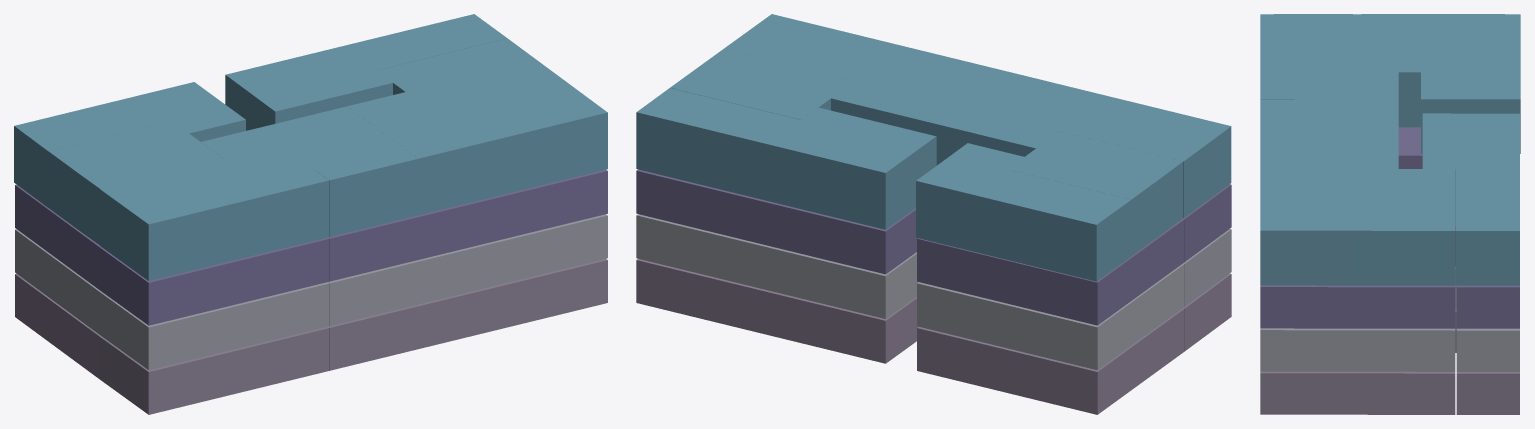
File: type-a-hitbox.glb
3 renders of one model, left to right at view 1: azimuth 30°, elevation 25°; view 2: azimuth 150°, elevation 25°; view 3: azimuth 270°, elevation 25°, orthographic. The views are drawn at different scales.
Visible parts, largest first — view 1: Line028, Line023, Line021, Line022, Line013, Line019, Line007, Line020, Line027, Line011, Line005, Line017 (+7 smaller); view 2: Line021, Line020, Line028, Line009, Line003, Line015, Line002, Line008, Line014, Line023, Line027, Line022 (+4 smaller); view 3: Line023, Line021, Line024, Line028, Line020, Line027, Line022, Line018, Line012, Line006, Line017, Line011 (+5 smaller).
Boxes of the visible parts, left/top/right/bottom form: Line028: left=100, top=128, right=328, bottom=280; Line023: left=347, top=77, right=607, bottom=215; Line021: left=225, top=14, right=507, bottom=130; Line022: left=257, top=106, right=418, bottom=236; Line013: left=100, top=282, right=328, bottom=370; Line019: left=100, top=237, right=328, bottom=325; Line007: left=100, top=327, right=328, bottom=414; Line020: left=14, top=82, right=245, bottom=207; Line027: left=48, top=121, right=223, bottom=245; Line011: left=417, top=214, right=607, bottom=304; Line005: left=417, top=259, right=607, bottom=348; Line017: left=417, top=169, right=607, bottom=259; Line021: left=636, top=88, right=936, bottom=229; Line020: left=916, top=143, right=1131, bottom=281; Line028: left=979, top=82, right=1231, bottom=217; Line009: left=636, top=214, right=918, bottom=318; Line003: left=636, top=259, right=918, bottom=363; Line015: left=636, top=169, right=917, bottom=274; Line002: left=917, top=308, right=1183, bottom=414; Line008: left=917, top=264, right=1183, bottom=370; Line014: left=917, top=219, right=1183, bottom=325; Line023: left=724, top=14, right=960, bottom=124; Line027: left=1008, top=131, right=1183, bottom=256; Line022: left=890, top=60, right=1050, bottom=165; Line023: left=1260, top=141, right=1398, bottom=285; Line021: left=1422, top=113, right=1519, bottom=285; Line024: left=1353, top=169, right=1455, bottom=285; Line028: left=1260, top=14, right=1398, bottom=99; Line020: left=1421, top=14, right=1520, bottom=153; Line027: left=1353, top=14, right=1453, bottom=127; Line022: left=1260, top=99, right=1398, bottom=141; Line018: left=1353, top=285, right=1455, bottom=328; Line012: left=1353, top=328, right=1455, bottom=371; Line006: left=1353, top=371, right=1455, bottom=414; Line017: left=1260, top=285, right=1352, bottom=328; Line011: left=1260, top=328, right=1352, bottom=371.
Bounding box in the file's own units: 36.53 × 14.44 × 18.52.
